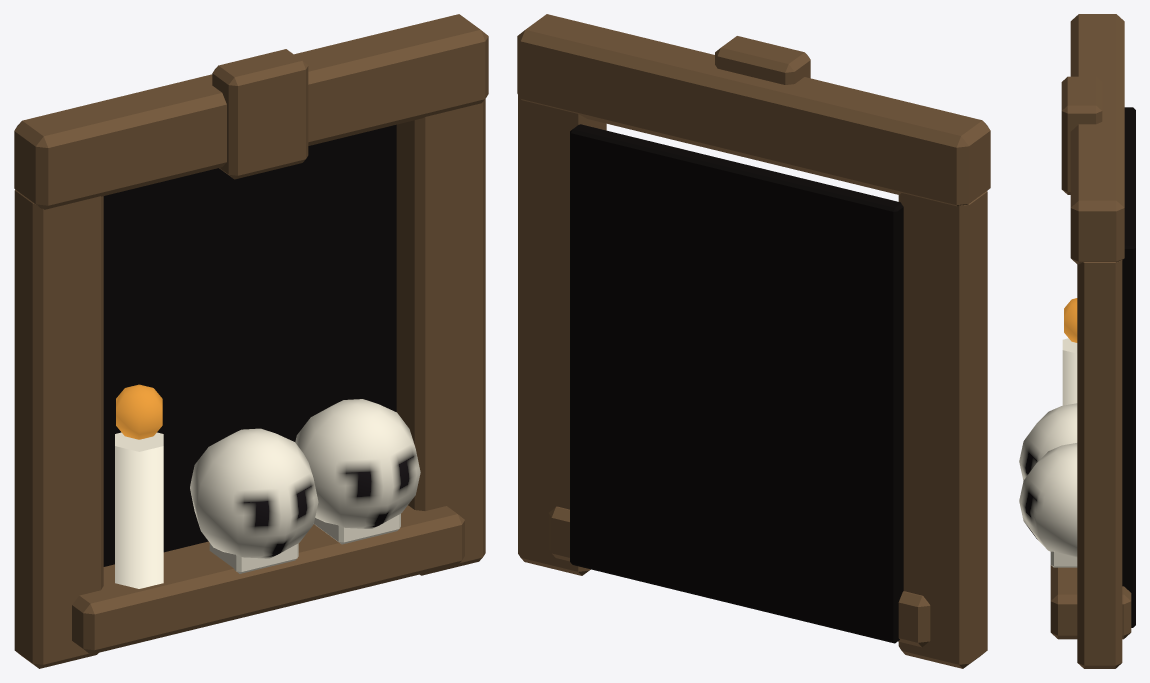
The model's file is prop_nichel_8962.glb.
3 views of the same model, side by side, from view 1: azimuth 30°, elevation 25°; view 2: azimuth 150°, elevation 25°; view 3: azimuth 270°, elevation 25° (orthographic). The views are drawn at different scales.
Parts seen in each view (by area): view 1: prop_nichel_8962; view 2: prop_nichel_8962; view 3: prop_nichel_8962.
Boxes of the visible parts, box(x1,y1,x2,y2) form: prop_nichel_8962: box(14, 14, 488, 668); prop_nichel_8962: box(517, 14, 990, 668); prop_nichel_8962: box(1019, 14, 1135, 668).
Bounding box in the file's own units: 0.9016 × 1.05 × 0.2298.
2 materials, 2 textured.
